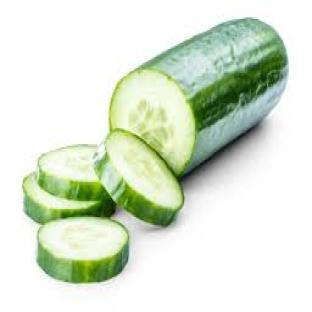Cucumber: (110, 18, 287, 175), (94, 130, 184, 226), (37, 217, 129, 283), (24, 175, 115, 223), (37, 145, 109, 201)
